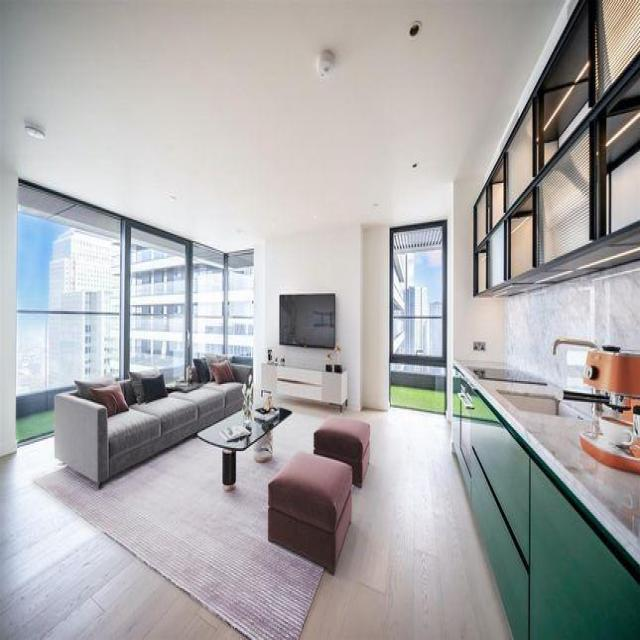Wall: (0, 1, 565, 251), (0, 405, 510, 639), (451, 182, 640, 385), (254, 225, 389, 411), (0, 165, 18, 457)
